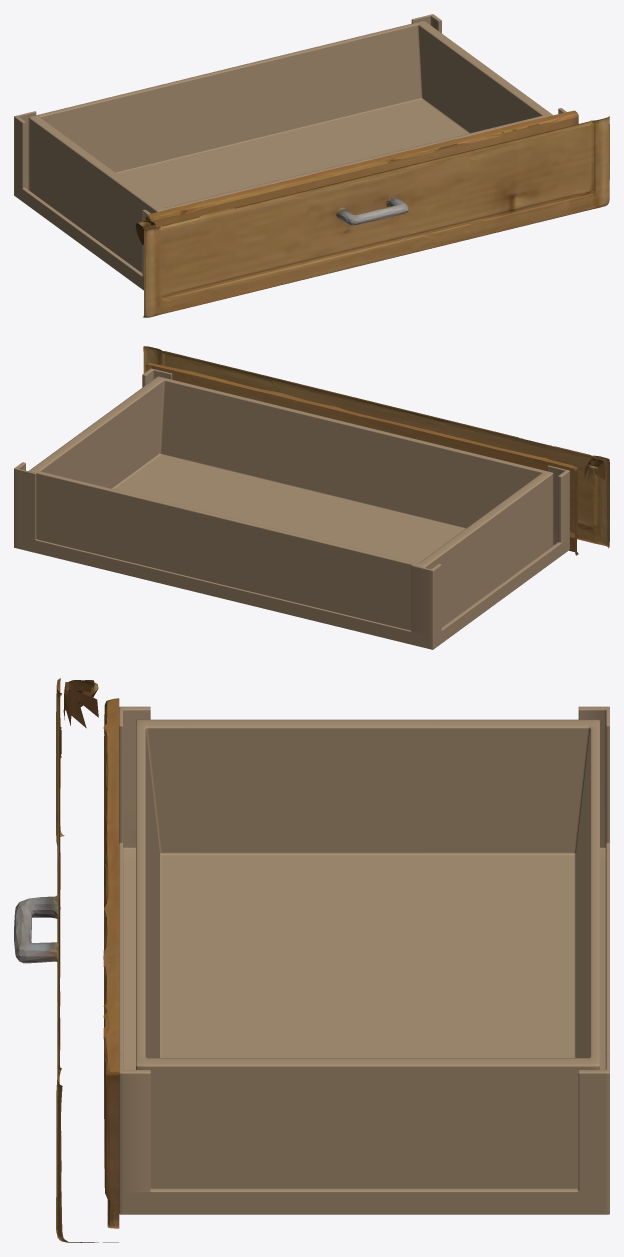
The model's file is drawer.glb.
The picture shows the model from 3 angles, top to bottom: view 1: azimuth 30°, elevation 25°; view 2: azimuth 150°, elevation 25°; view 3: azimuth 270°, elevation 25°; orthographic projection. The views are drawn at different scales.
Parts seen in each view (by area): view 1: prefab_drawer_body_1, source_front_cap_0; view 2: prefab_drawer_body_1, source_front_cap_0; view 3: prefab_drawer_body_1, source_front_cap_0.
Part boxes in pixels (<box>): prefab_drawer_body_1: <box>14,14,566,290</box>; source_front_cap_0: <box>135,110,609,317</box>; prefab_drawer_body_1: <box>14,368,569,649</box>; source_front_cap_0: <box>143,346,609,555</box>; prefab_drawer_body_1: <box>119,706,609,1214</box>; source_front_cap_0: <box>14,678,119,1242</box>.
Bounding box in the file's own units: 0.6903 × 0.1248 × 0.427.
2 materials, 1 textured.
